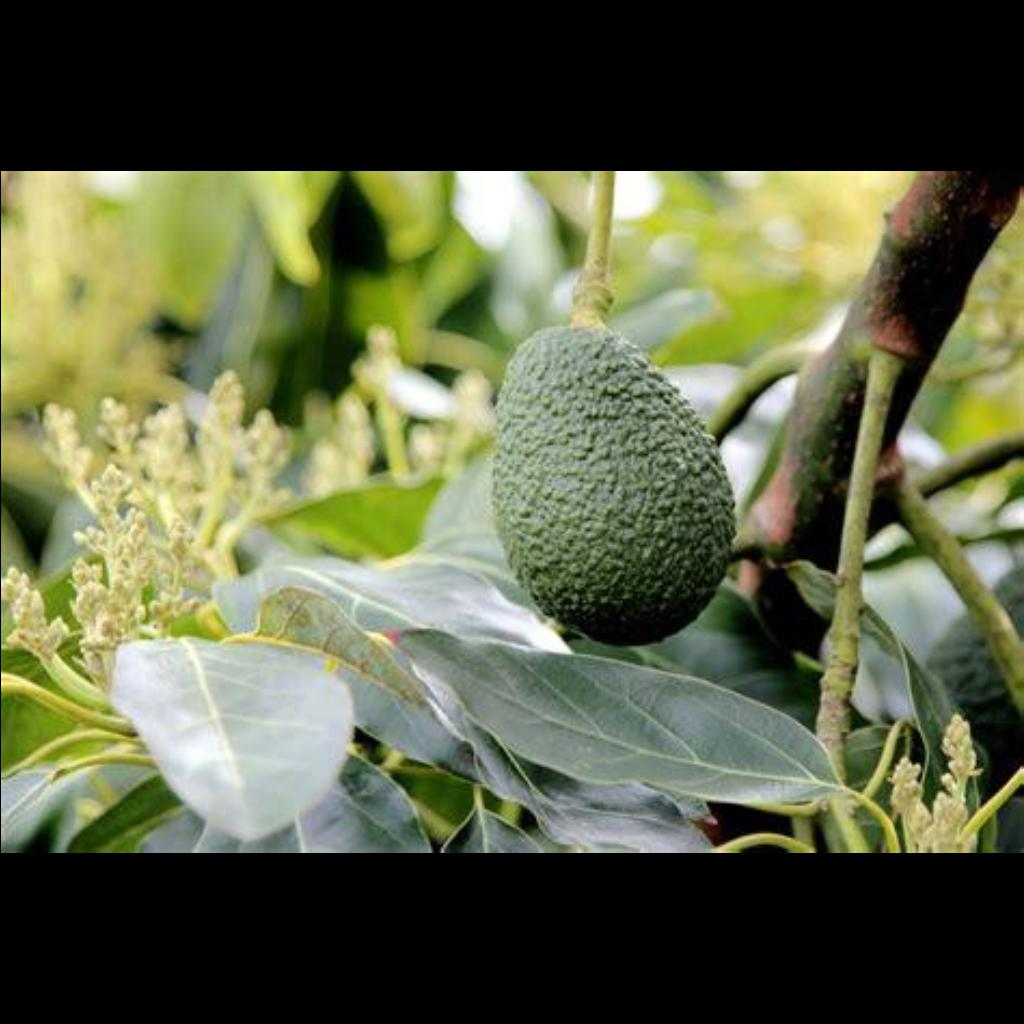Healthy: (470, 302, 758, 648)
